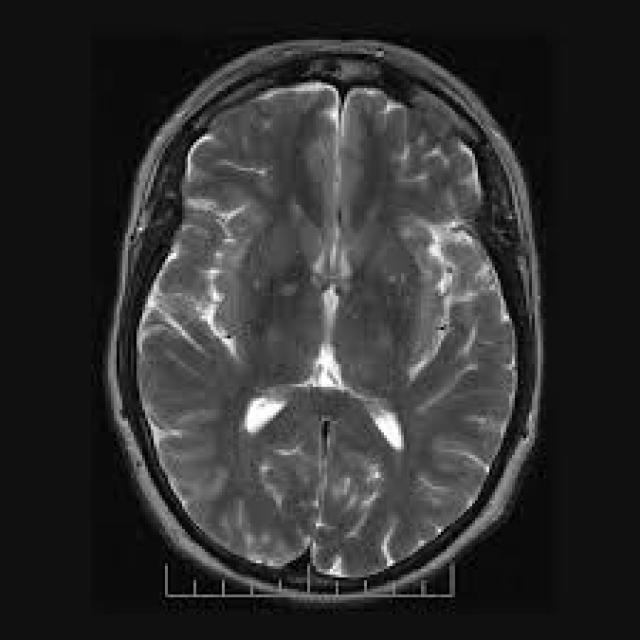notumor: (102, 40, 546, 600)
